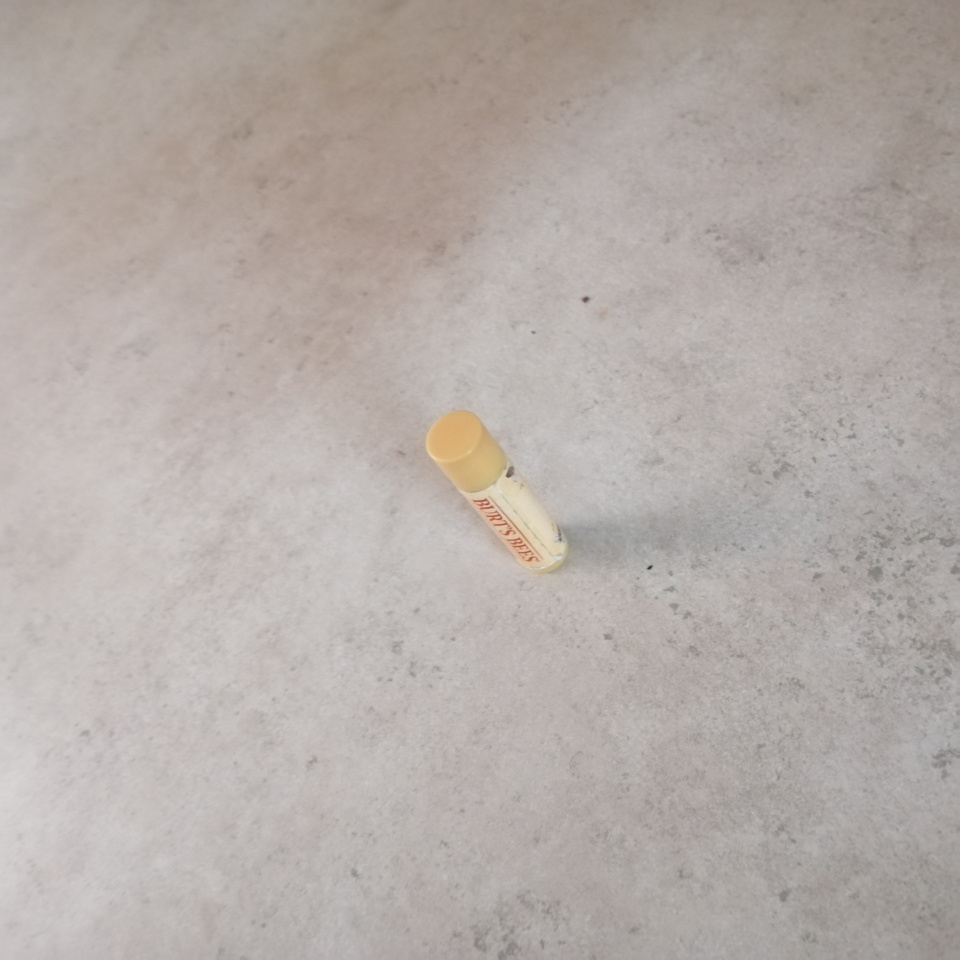chapstick: (426, 410, 569, 574)
